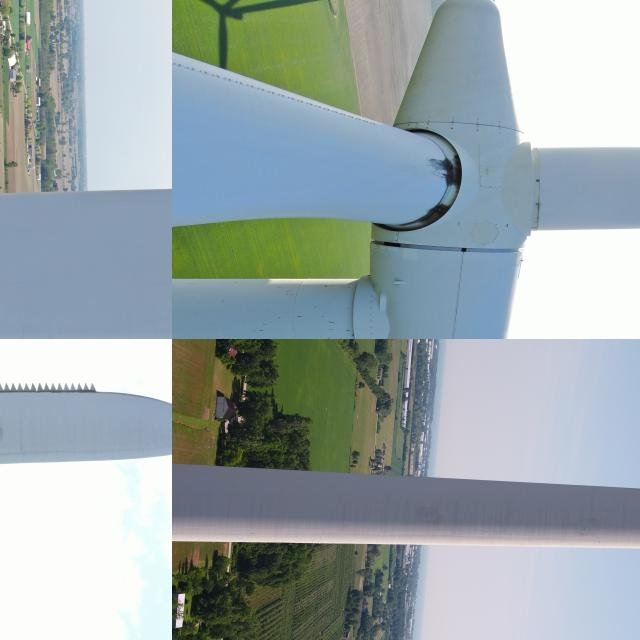damage: (403, 200, 463, 236), (422, 152, 468, 188), (166, 407, 171, 432)
